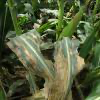Corn leaf blight: (7, 34, 53, 99), (52, 39, 82, 99)
